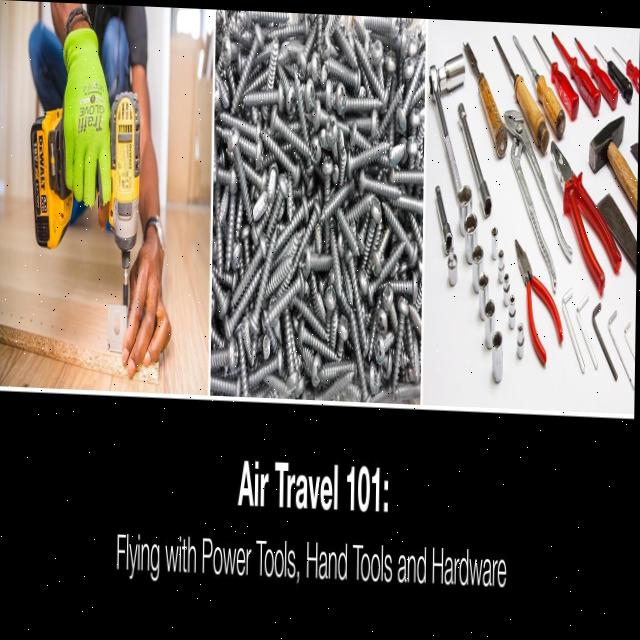Screwdriver: (494, 31, 550, 149), (513, 29, 565, 135), (551, 26, 600, 110), (534, 29, 579, 116), (575, 30, 619, 103), (594, 39, 633, 97), (613, 41, 640, 91)
